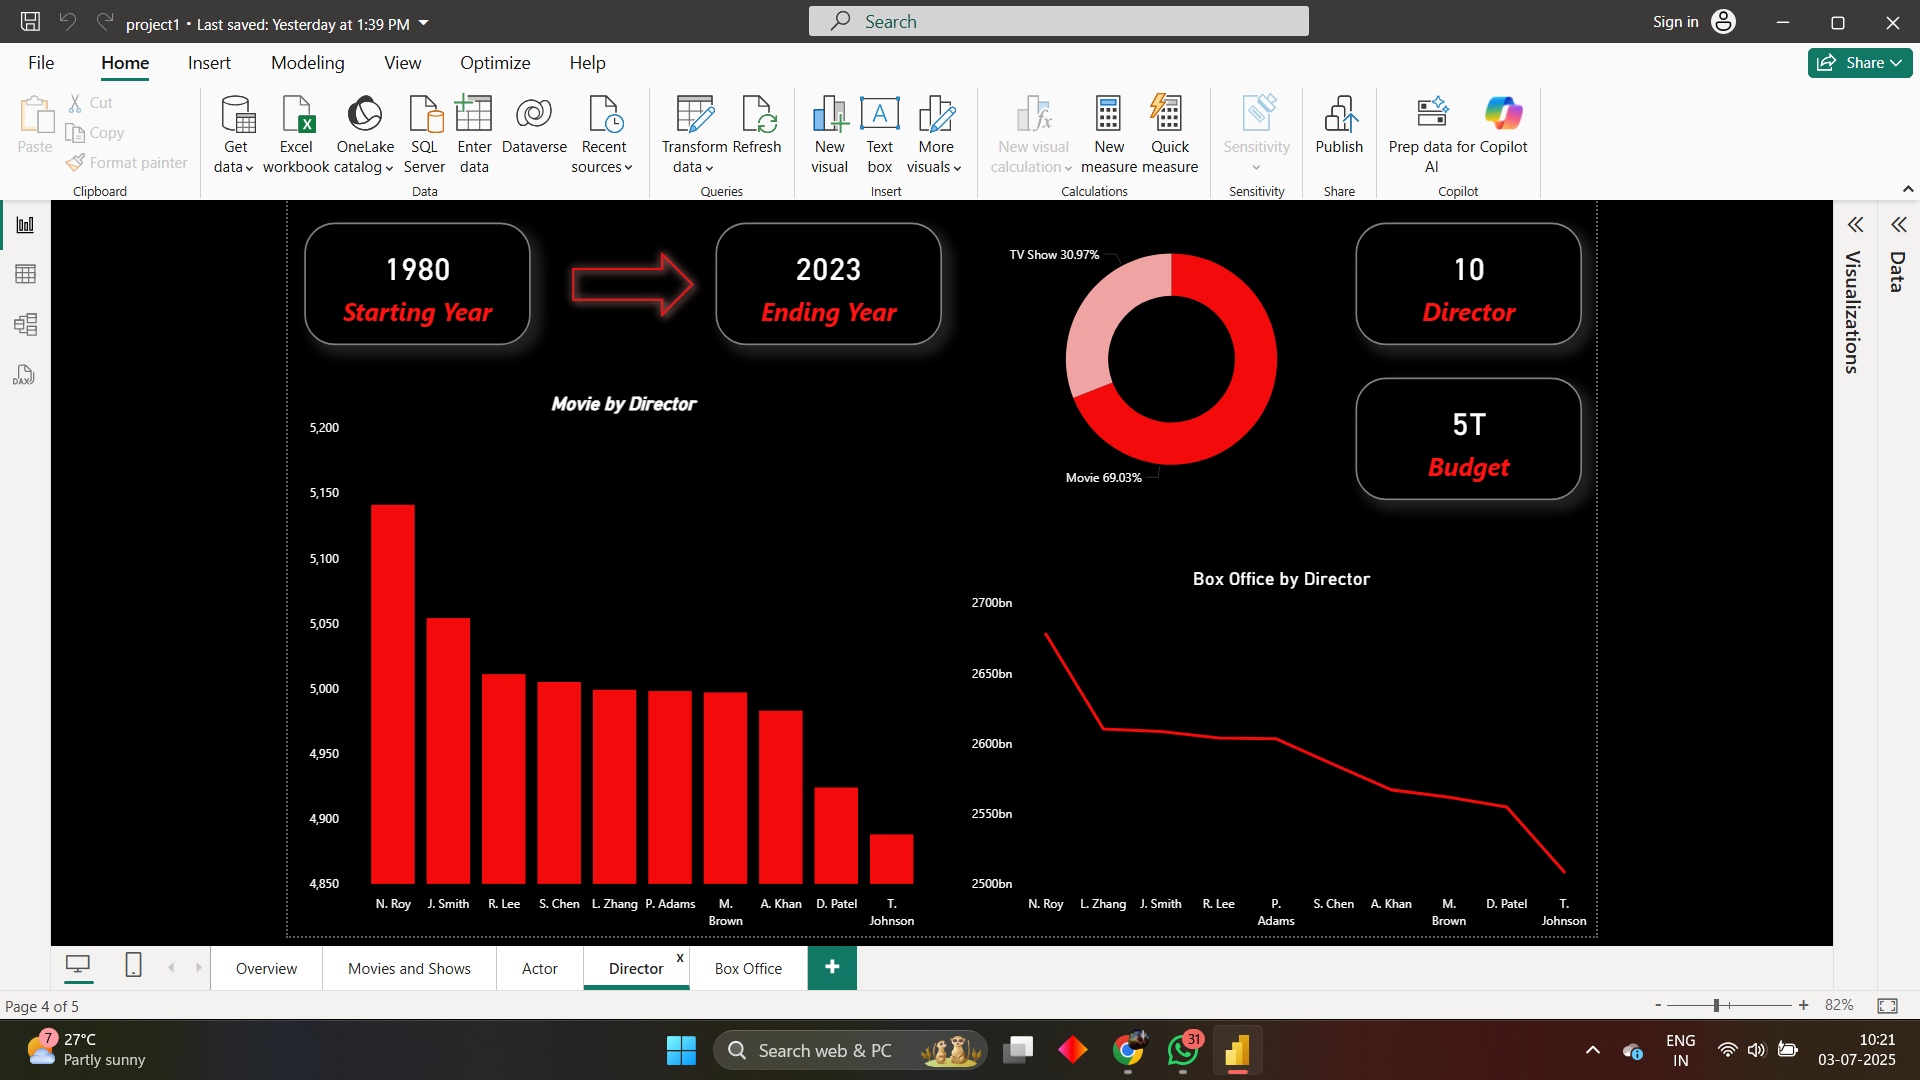

The dashboard page shown, as its layout file describes it:
{"tool":"powerbi","page":{"name":"Director","canvas":[1280,720],"ordinal":3},"visuals":[{"type":"card","fields":{"Values":["movie.Year"]},"box":[418.2,22,221.3,119.8],"z":0},{"type":"card","fields":{"Values":["movie.Year"]},"box":[15.9,22,221.3,119.8],"z":1000},{"type":"columnChart","title":"Movie by Director","fields":{"Y":["movie.Title"],"Category":["movie.Director"]},"box":[15.9,188.3,623.6,531.9],"z":2000},{"type":"lineChart","title":"Box Office by Director","fields":{"Category":["movie.Director"],"Y":["movie.BoxOffice_USD"]},"box":[664,359.5,616.3,360.7],"z":3000},{"type":"shape","box":[269,41.6,137,81.9],"z":4000},{"type":"card","fields":{"Values":["movie.Budget_USD"]},"box":[1044.3,173.6,221.3,119.8],"z":5000},{"type":"card","fields":{"Values":["movie.Director"]},"box":[1044.3,22,221.3,119.8],"z":6000},{"type":"donutChart","fields":{"Category":["movie.Movie or tv show"],"Y":["movie.Movie or tv show"]},"box":[684.8,0,359.5,311.8],"z":7000}]}

Visuals, with their boxes on the page's 1280x720 design canvas (x1, y1, x2, y2). These are canvas units, not pixel positions in the 1920x1080 screenshot, which may show the page scaled, cropped or inside an application window:
card - movie.Year: bbox=(418, 22, 640, 142)
card - movie.Year: bbox=(16, 22, 237, 142)
"Movie by Director" columnChart: bbox=(16, 188, 640, 720)
"Box Office by Director" lineChart: bbox=(664, 360, 1280, 720)
shape: bbox=(269, 42, 406, 124)
card - movie.Budget_USD: bbox=(1044, 174, 1266, 293)
card - movie.Director: bbox=(1044, 22, 1266, 142)
donutChart - movie.Movie or tv show x movie.Movie or tv show: bbox=(685, 0, 1044, 312)
